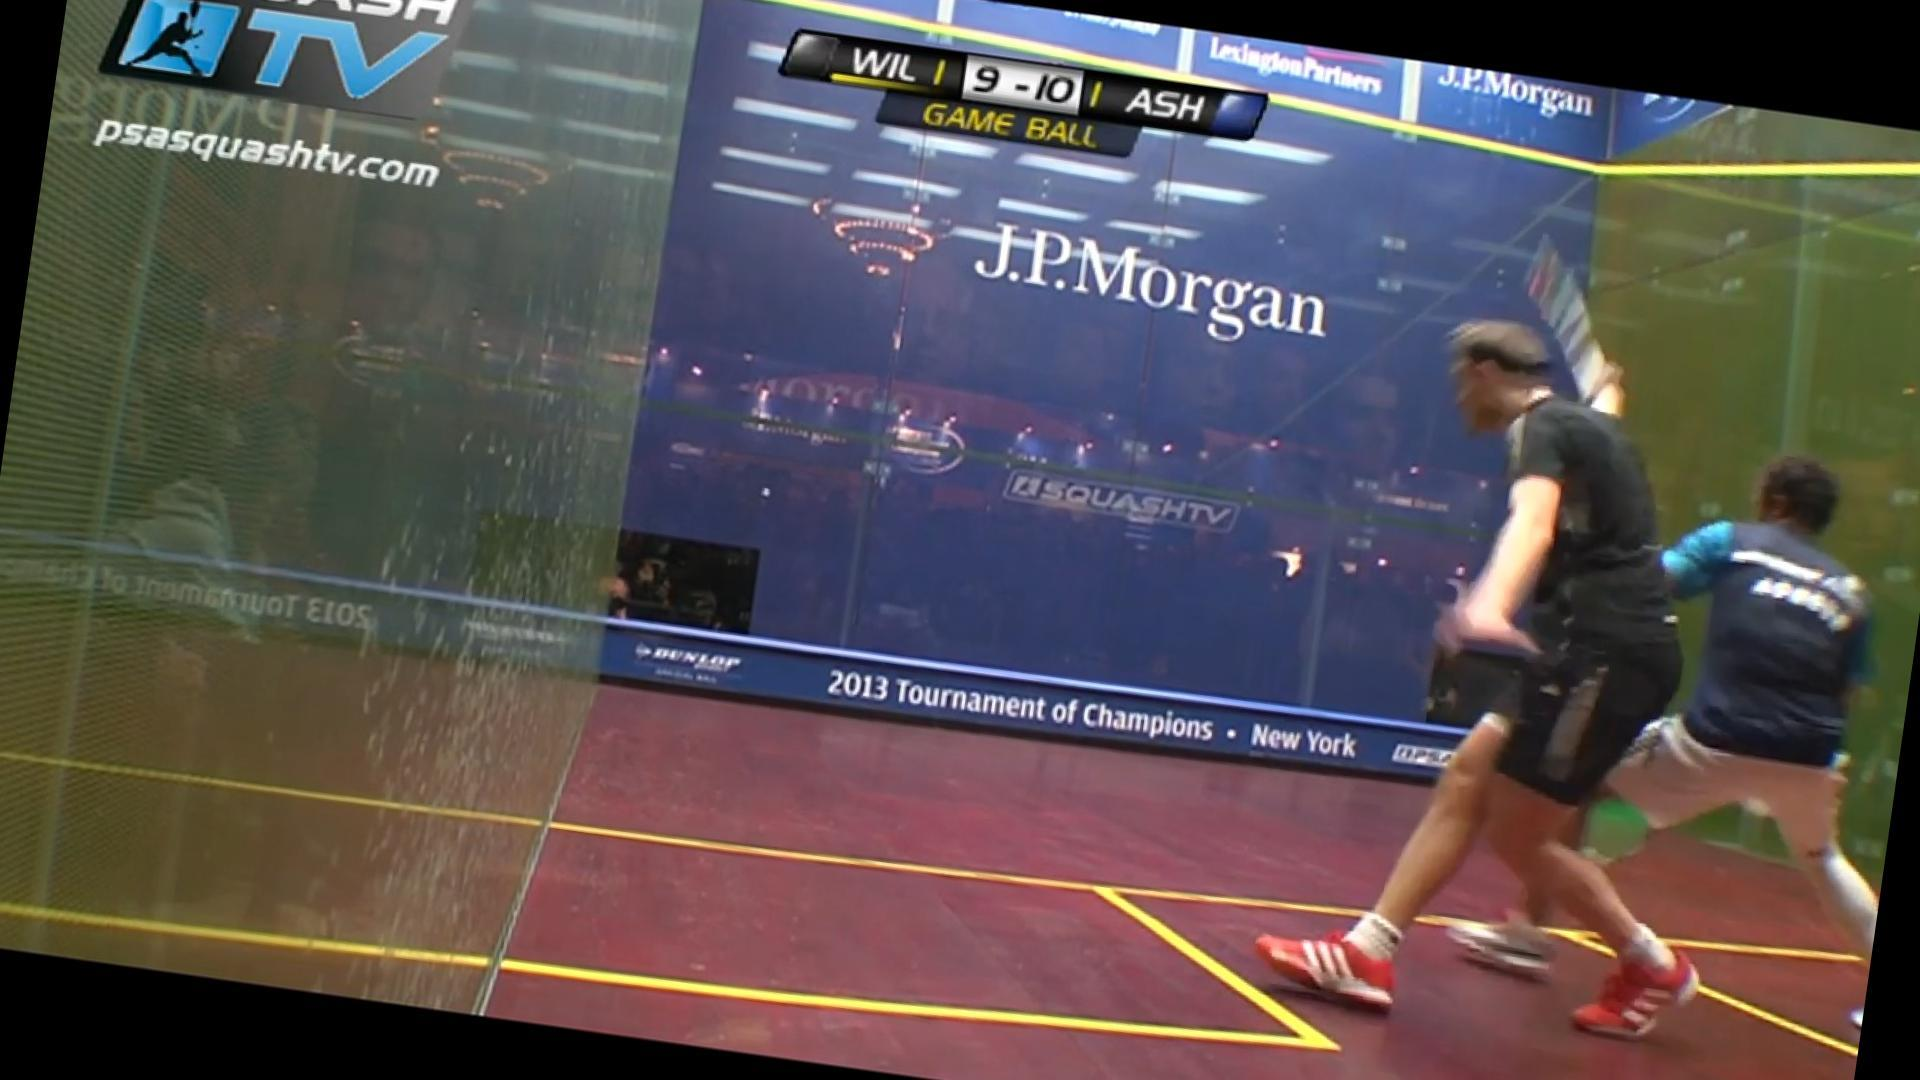Squash-Ball: (761, 476, 785, 501)
